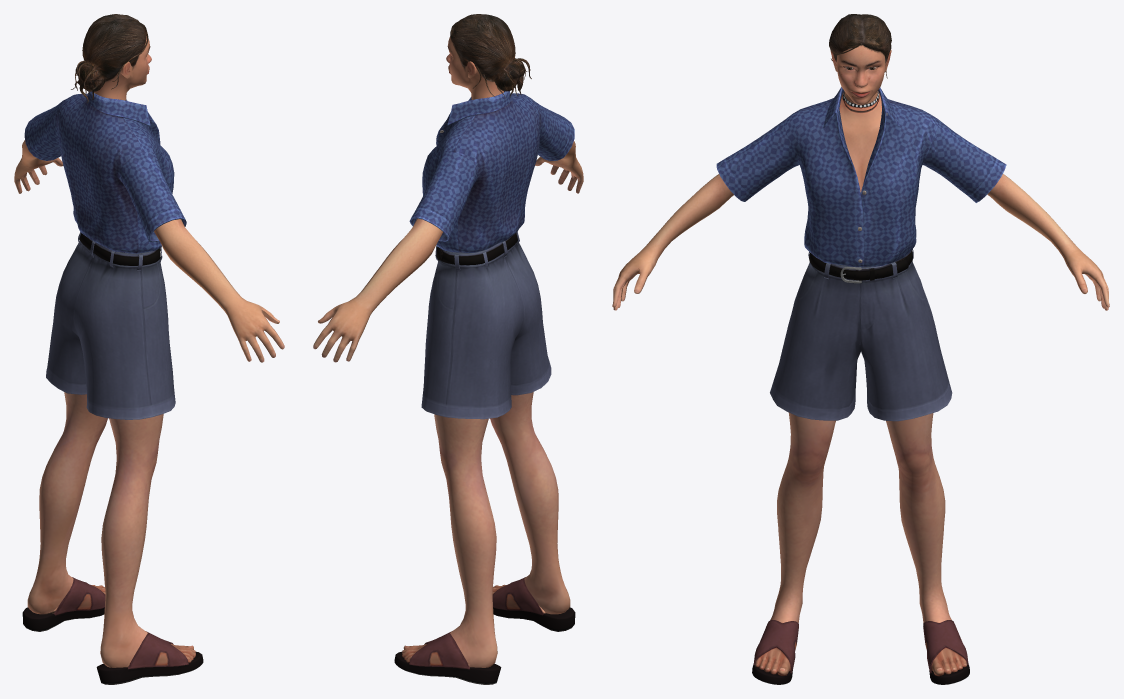
The model's file is sm_youngwoman_web.fbx.
3 views of the same model, side by side, from view 1: azimuth 30°, elevation 25°; view 2: azimuth 150°, elevation 25°; view 3: azimuth 270°, elevation 25° (orthographic). The views are drawn at different scales.
Visible parts, largest first — view 1: sm_youngwoman_web; view 2: sm_youngwoman_web; view 3: sm_youngwoman_web.
Boxes of the visible parts, x1,y1,x2,y2 form: sm_youngwoman_web: (14,14,284,684); sm_youngwoman_web: (313,14,583,684); sm_youngwoman_web: (612,14,1109,684).
Size of the model in its own units: 0.3318 by 1.8 by 1.24.
4 materials, 4 textured.
